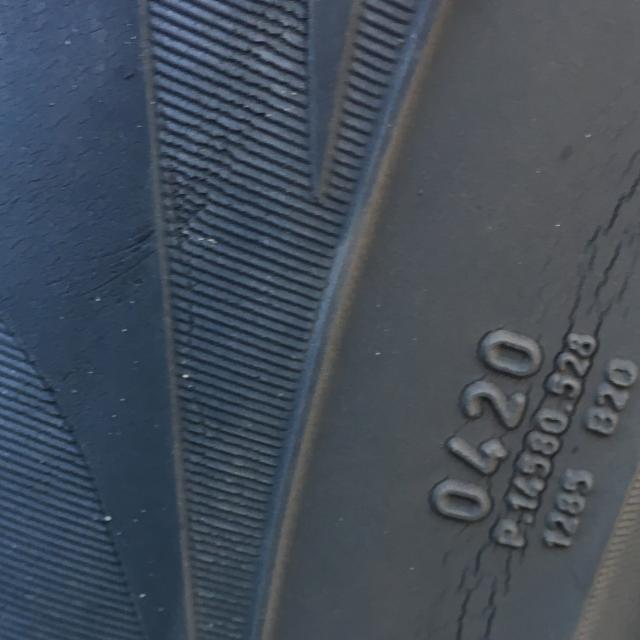Cracks: (0, 0, 338, 379), (413, 96, 640, 640)
